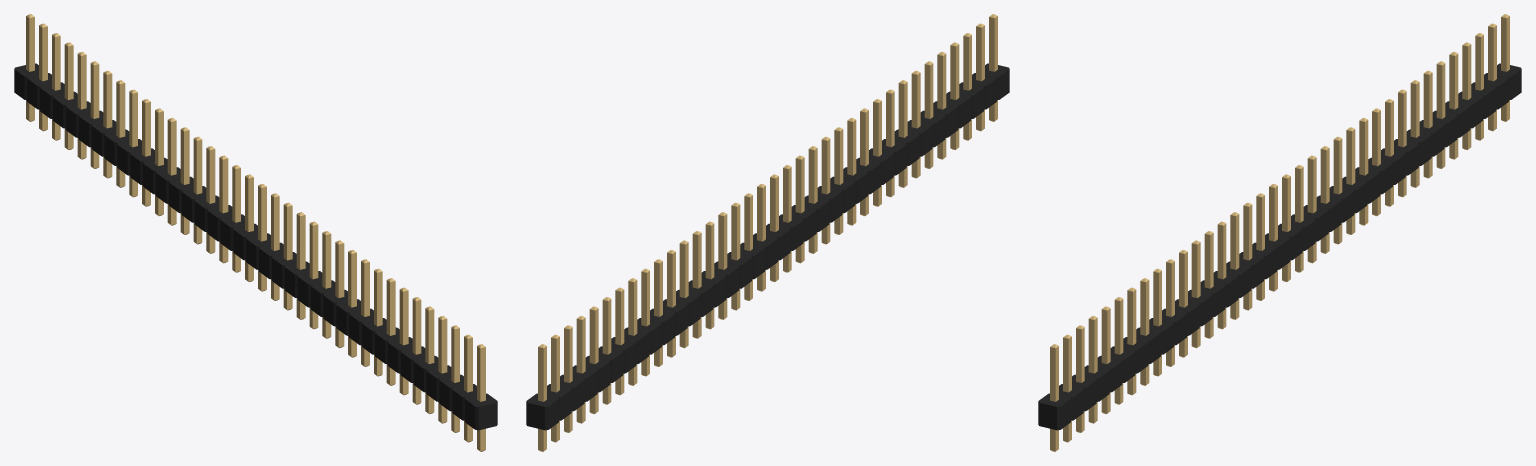
File: kc-pinheader_1x36_p2.54mm_vertical.glb
The picture shows the model from 3 angles, left to right: view 1: azimuth 30°, elevation 25°; view 2: azimuth 150°, elevation 25°; view 3: azimuth 330°, elevation 25°; orthographic projection.
Visible parts, largest first — view 1: 0.75_0.5_0.25_0.9, 0_0_0_0; view 2: 0.75_0.5_0.25_0.9, 0_0_0_0; view 3: 0.75_0.5_0.25_0.9, 0_0_0_0.
Part boxes in pixels (x1,y1,x2,y2): 0.75_0.5_0.25_0.9: (26,14,485,451); 0_0_0_0: (14,63,497,430); 0.75_0.5_0.25_0.9: (538,14,997,451); 0_0_0_0: (526,63,1009,430); 0.75_0.5_0.25_0.9: (1050,14,1509,451); 0_0_0_0: (1038,63,1521,430).
Size of the model in its own units: 0.2545 by 1.15 by 9.14.
